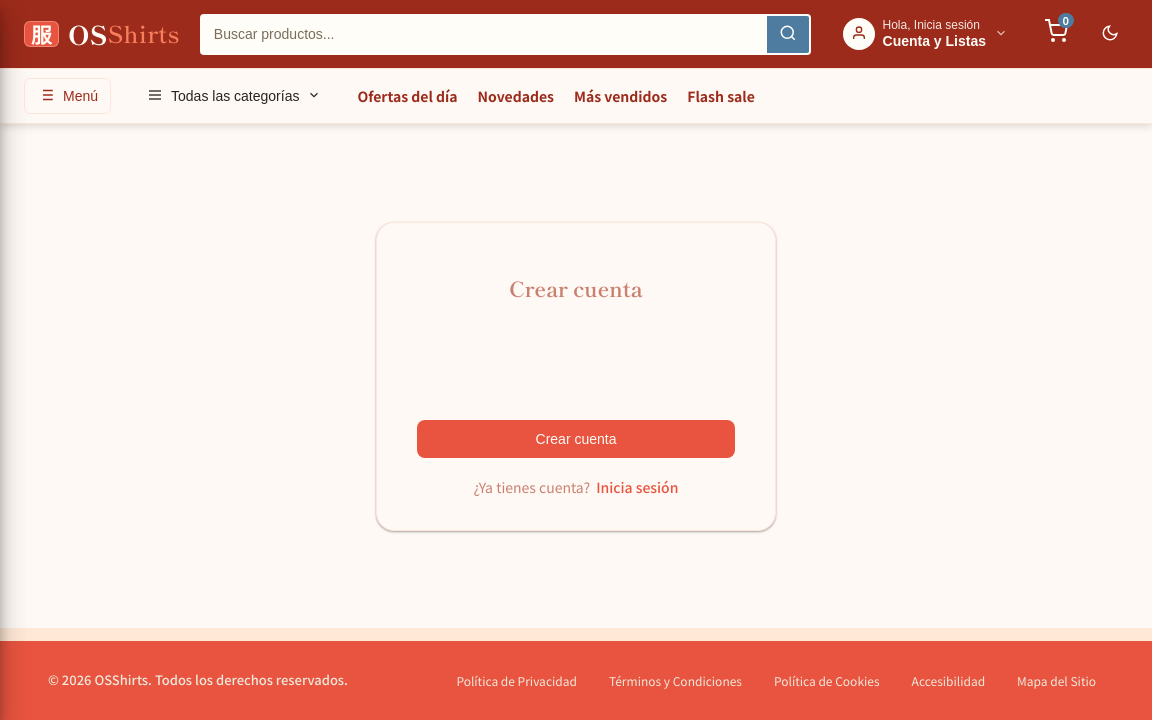
Scenario: Registro (/register) › [negativo] campos obligatorios vacíos -> muestra validación y no envía la petición
Step 1. Click the button "Crear cuenta" → click(576, 439), box [417,420,735,458]
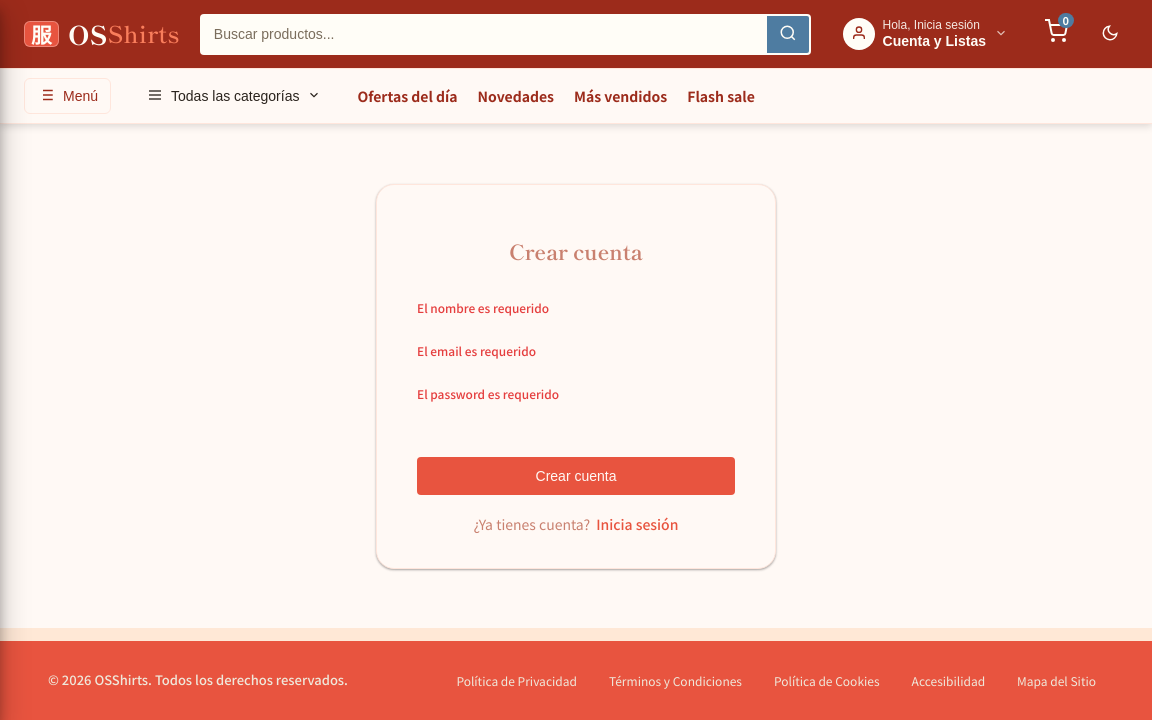
Now the text "El nombre es requerido" is shown, box [417,299,549,316]
Now the text "El email es requerido" is shown, box [417,342,536,359]
Now the text "El password es requerido" is shown, box [417,385,559,402]
